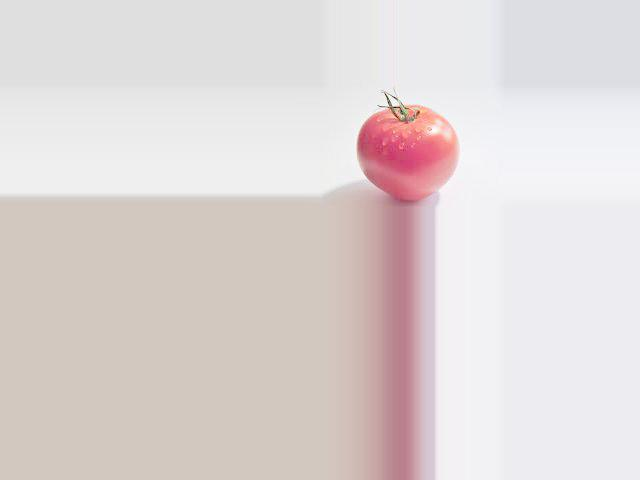tomato: (357, 106, 460, 200)
